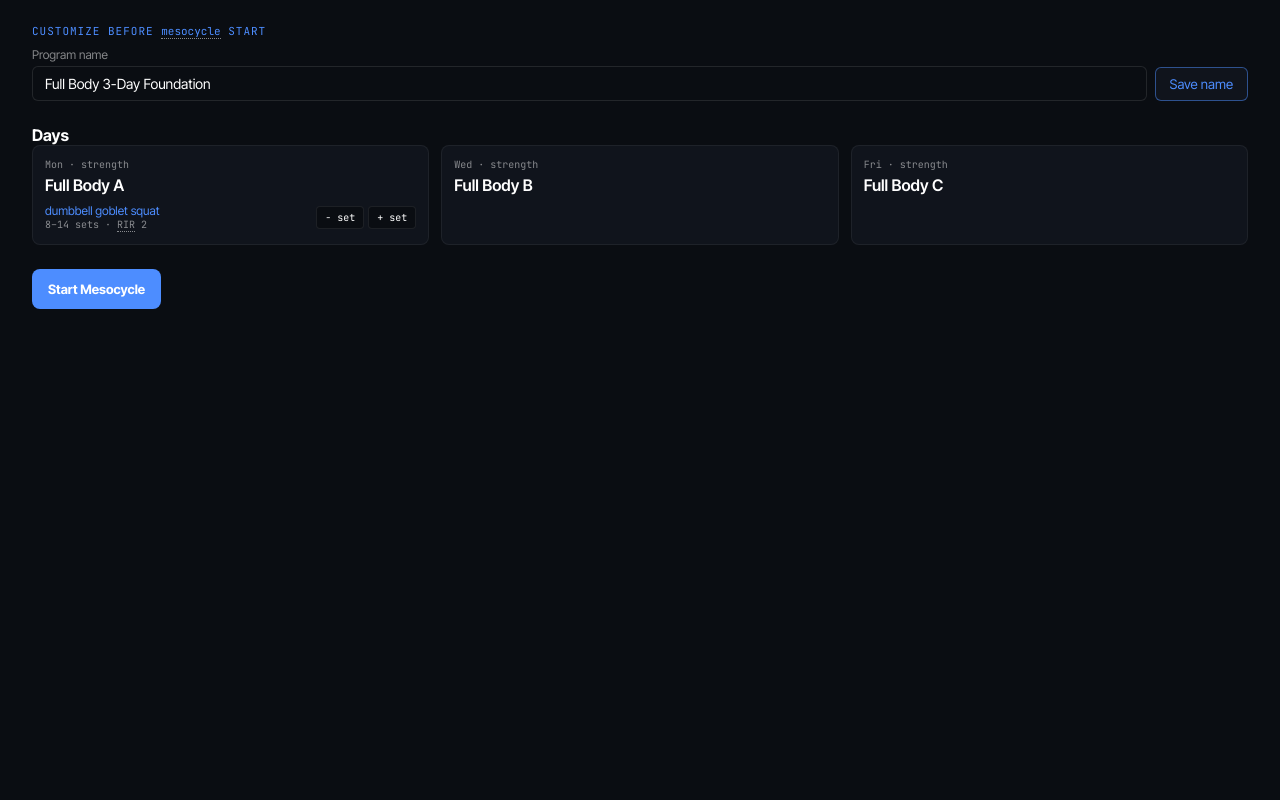
<ForkWizard> › clicking the exercise name opens the swap sheet; applying swaps + refreshes
Expected: the text "8–14 sets · RIR 2" is shown, [45,218,160,232]
Click the button "dumbbell goblet squat" at (102, 210), box [45,203,160,218]
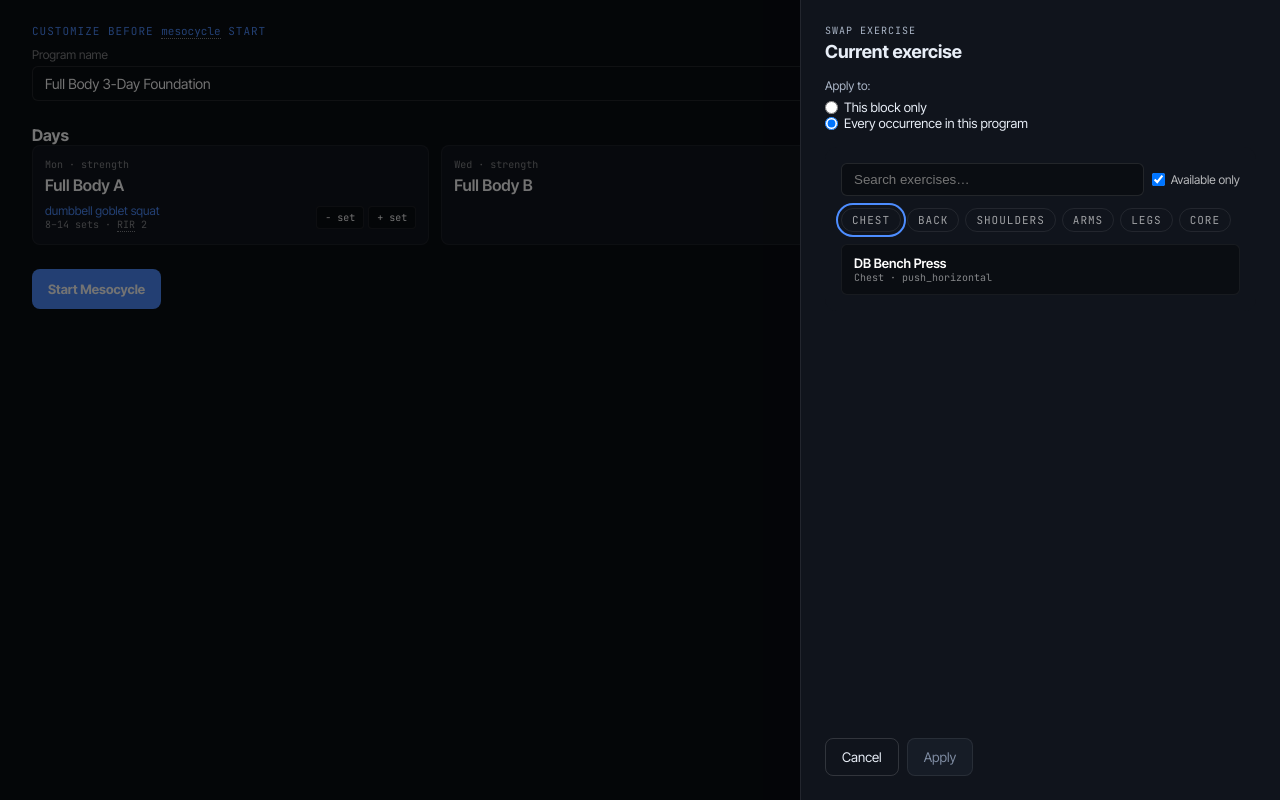
Expected: the dialog "Swap exercise" is shown
Expected: the text "DB Bench Press" is shown
Click the text "DB Bench Press" at (900, 263), box [854,255,946,271]
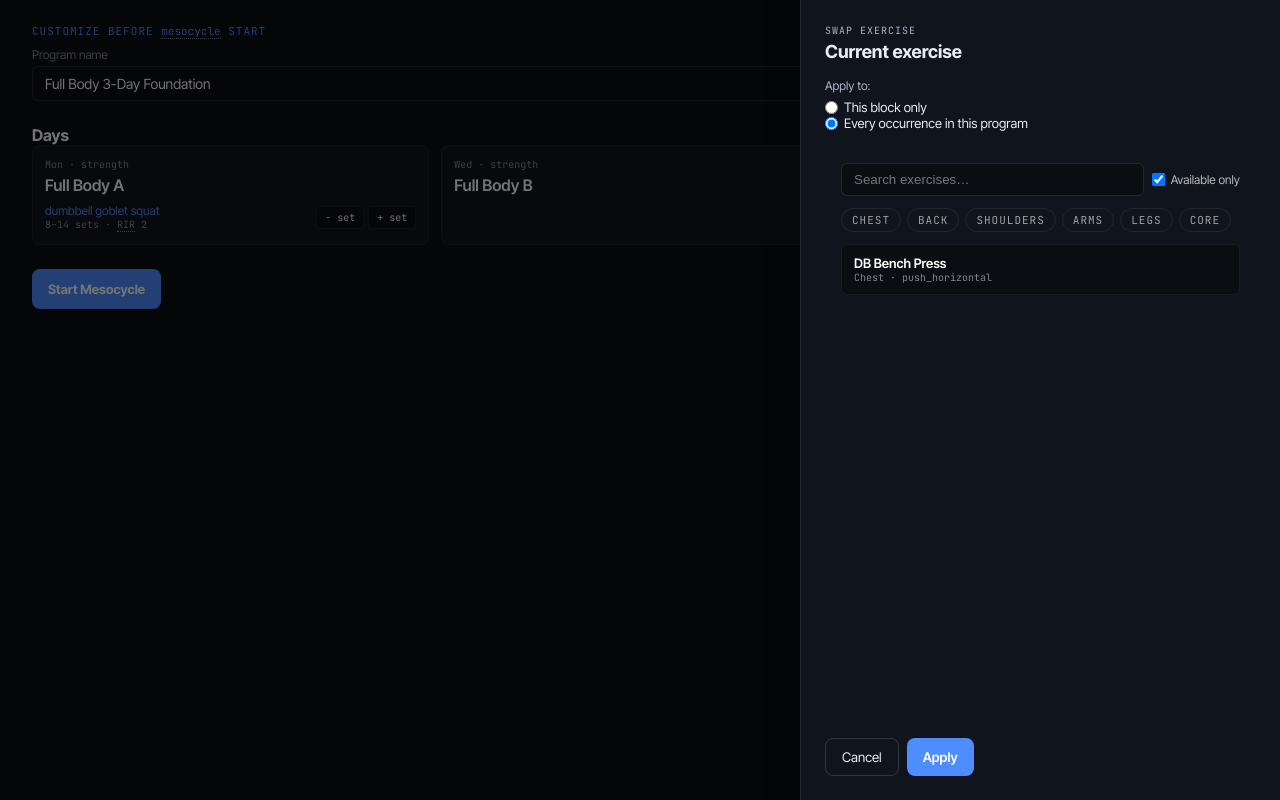
Click the button "Apply" at (940, 757), box [907,738,974,776]
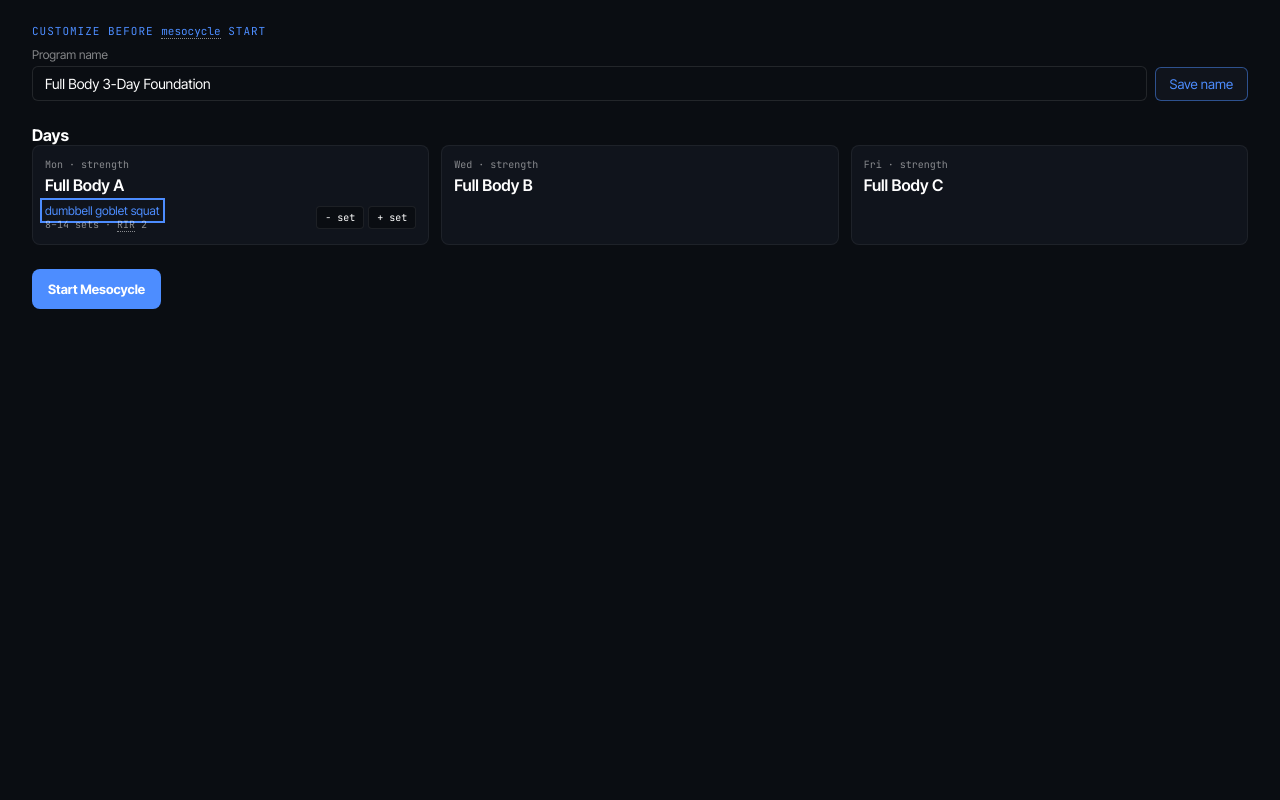
Expected: the text "Swap exercise" is gone
